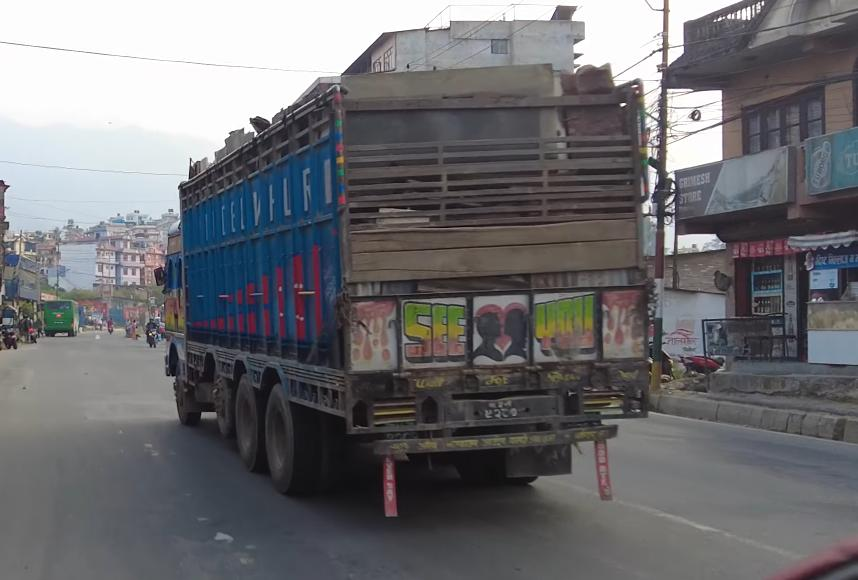bus: (42, 299, 78, 336)
truck: (156, 59, 659, 498)
